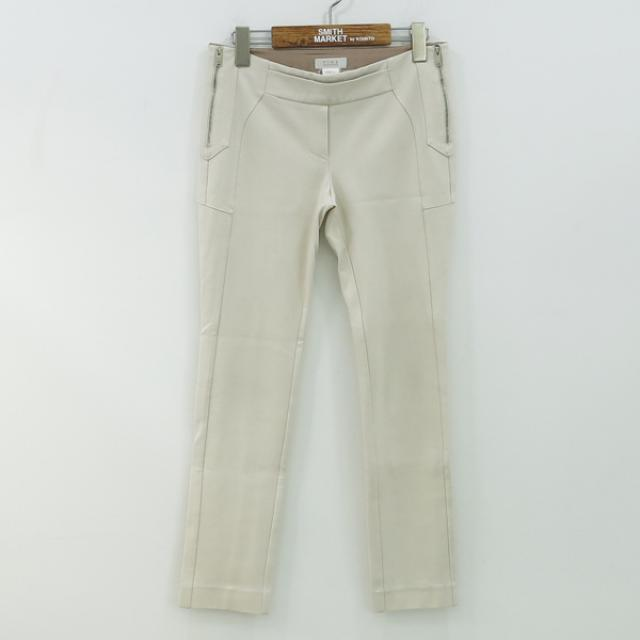long-pants: (182, 41, 462, 616)
